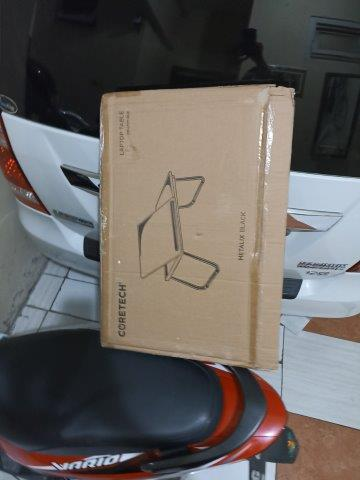kardus: (102, 92, 294, 368)
